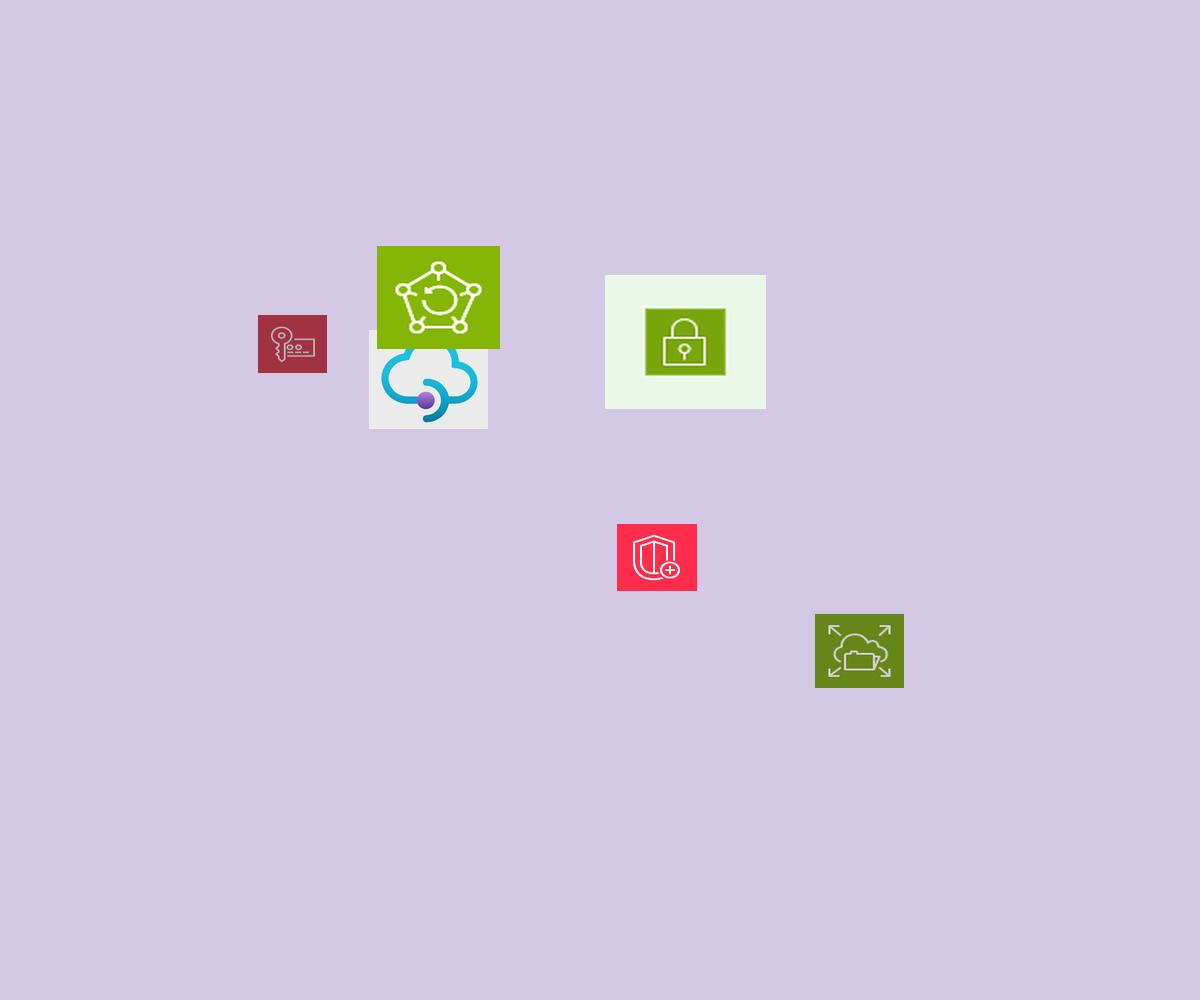AWS-Backup: (377, 246, 500, 349)
AWS-EFS: (815, 614, 904, 688)
AWS-Key-Management-Service: (258, 315, 327, 373)
AWS-Public-subnet: (605, 275, 766, 409)
AWS-Shield: (617, 524, 697, 591)
Azure_api_gateway: (369, 330, 488, 429)
